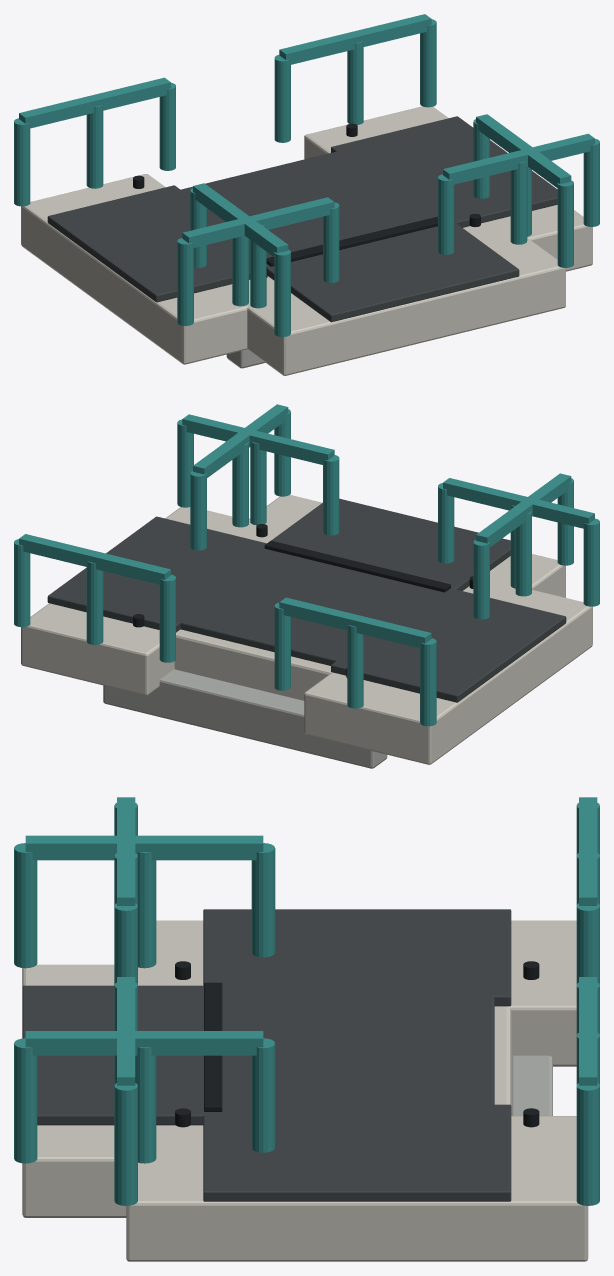
File: BRG_LOCAL_DECK_1x1_T.glb
The picture shows the model from 3 angles, top to bottom: view 1: azimuth 30°, elevation 25°; view 2: azimuth 150°, elevation 25°; view 3: azimuth 270°, elevation 25°; orthographic projection. The views are drawn at different scales.
Visible parts, largest first — view 1: BRG_LOCAL_DECK_1x1_T_Visual; view 2: BRG_LOCAL_DECK_1x1_T_Visual; view 3: BRG_LOCAL_DECK_1x1_T_Visual.
Boxes of the visible parts, x1=… form: BRG_LOCAL_DECK_1x1_T_Visual: x1=14, y1=14, x2=599, y2=375; BRG_LOCAL_DECK_1x1_T_Visual: x1=14, y1=404, x2=599, y2=768; BRG_LOCAL_DECK_1x1_T_Visual: x1=14, y1=797, x2=599, y2=1261.
Size of what is drawn, in the model's own units: 2.05 by 0.7475 by 1.75.
